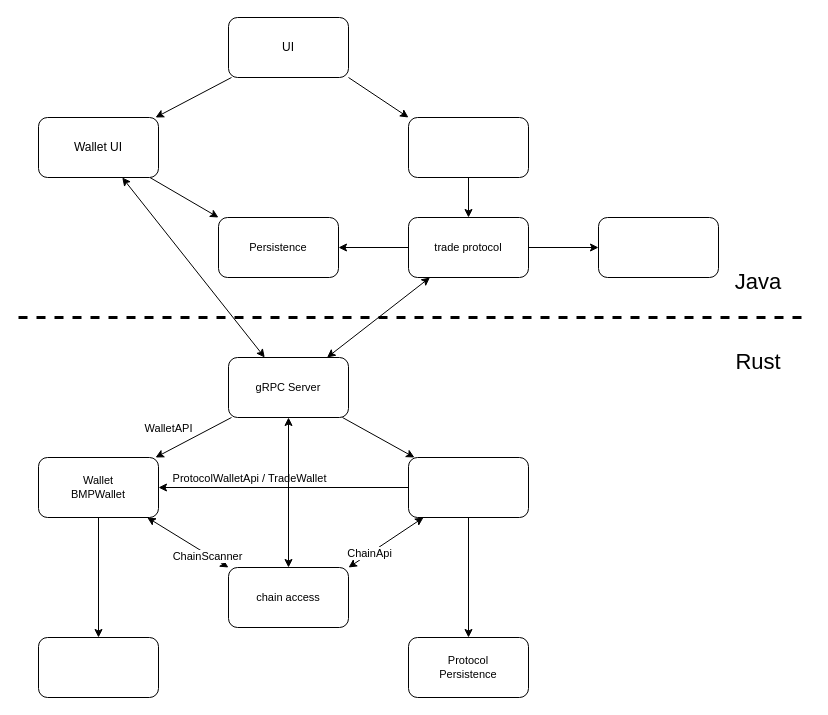
Some shapes in this 828 by 715 pixel diagram are drawn without their labels. Here are the shapes that lost their labels. From the top down, the box of each, then its label:
(408, 116, 528, 178): Protocol UI
(598, 216, 718, 278): Tor
(408, 456, 528, 518): bisq-musig protocol
(38, 636, 158, 698): Wallet Persistence
